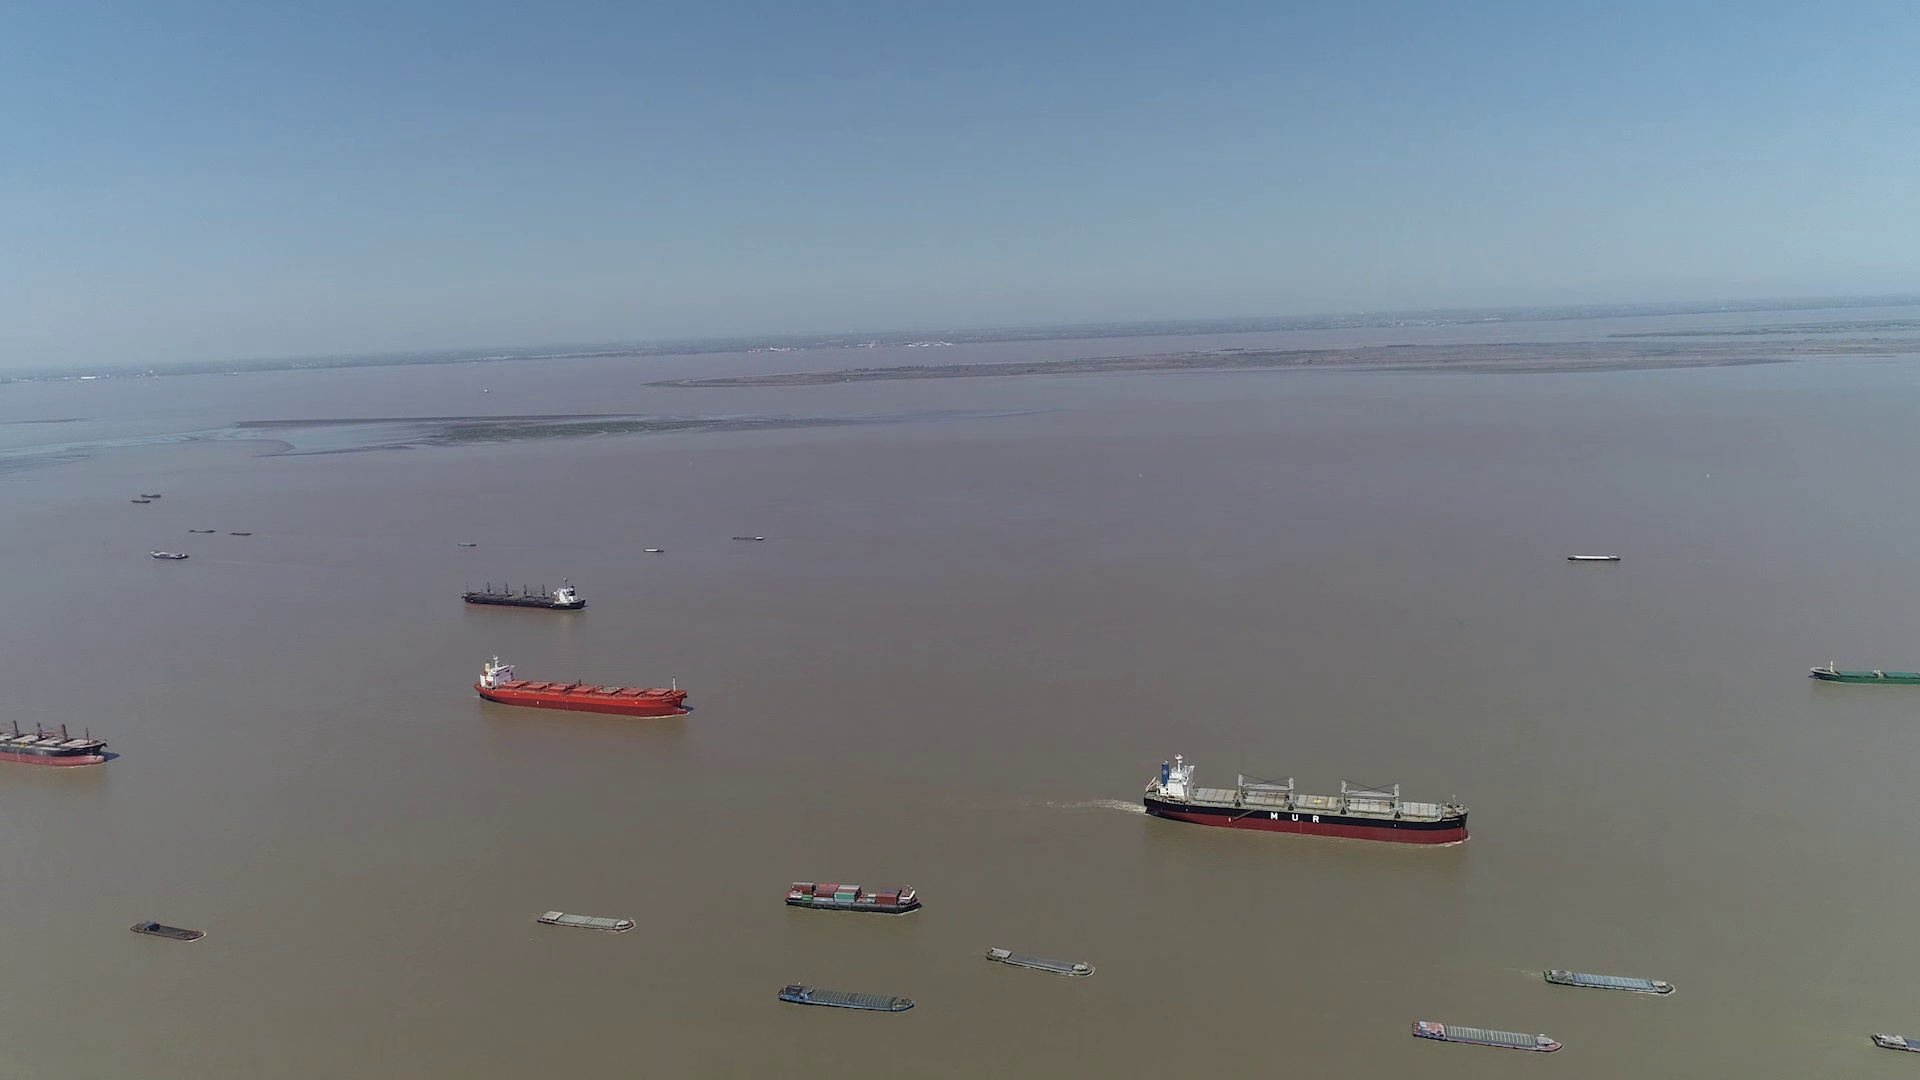ship: (1139, 756, 1472, 845), (477, 655, 688, 717), (3, 709, 115, 767), (783, 880, 923, 915), (1412, 1021, 1561, 1054), (778, 982, 916, 1014), (463, 579, 585, 611), (1543, 968, 1677, 996), (982, 945, 1095, 978), (1809, 658, 1920, 684), (535, 910, 634, 934), (132, 920, 206, 940), (1871, 1031, 1920, 1058), (1567, 554, 1622, 563), (152, 550, 193, 559)
